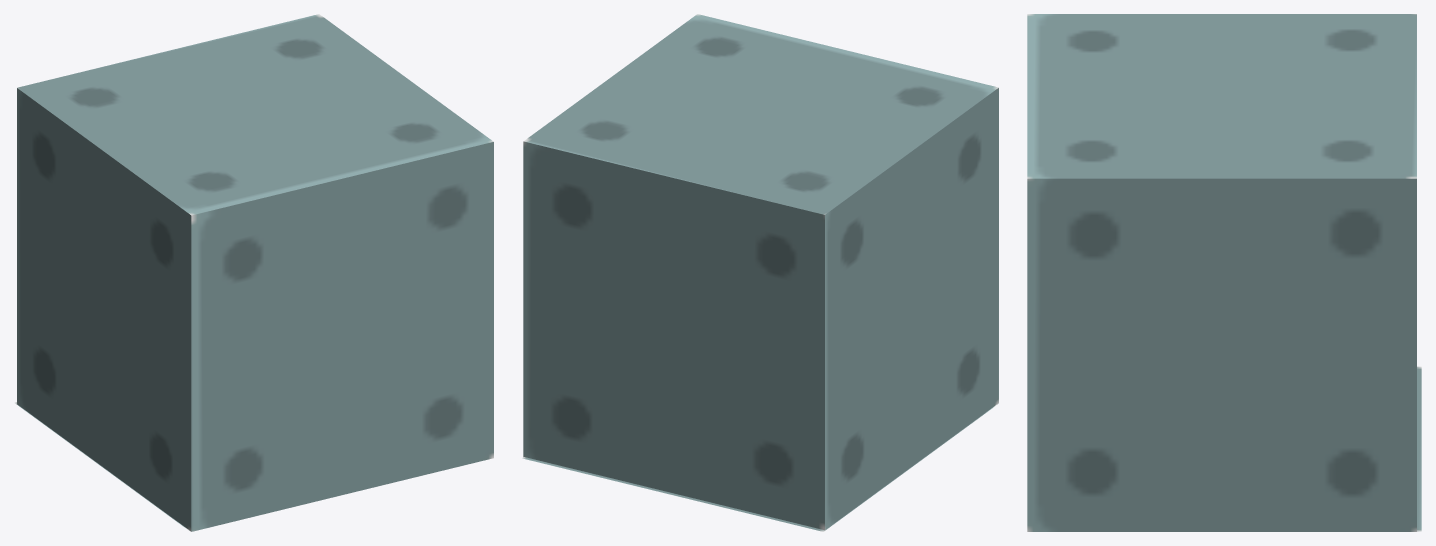
Rendered from Block.gltf.
The picture shows the model from 3 angles, left to right: view 1: azimuth 30°, elevation 25°; view 2: azimuth 150°, elevation 25°; view 3: azimuth 270°, elevation 25°; orthographic projection. The views are drawn at different scales.
Visible parts, largest first — view 1: Cube; view 2: Cube; view 3: Cube.
Boxes of the visible parts, x1,y1,x2,y2 form: Cube: [14, 14, 493, 531]; Cube: [522, 14, 998, 531]; Cube: [1027, 14, 1421, 531].
Size of the model in its own units: 2 by 2 by 2.02.
Materials: 1 (1 with a texture image).
